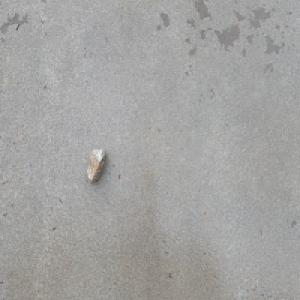Rock: (86, 145, 106, 185)
